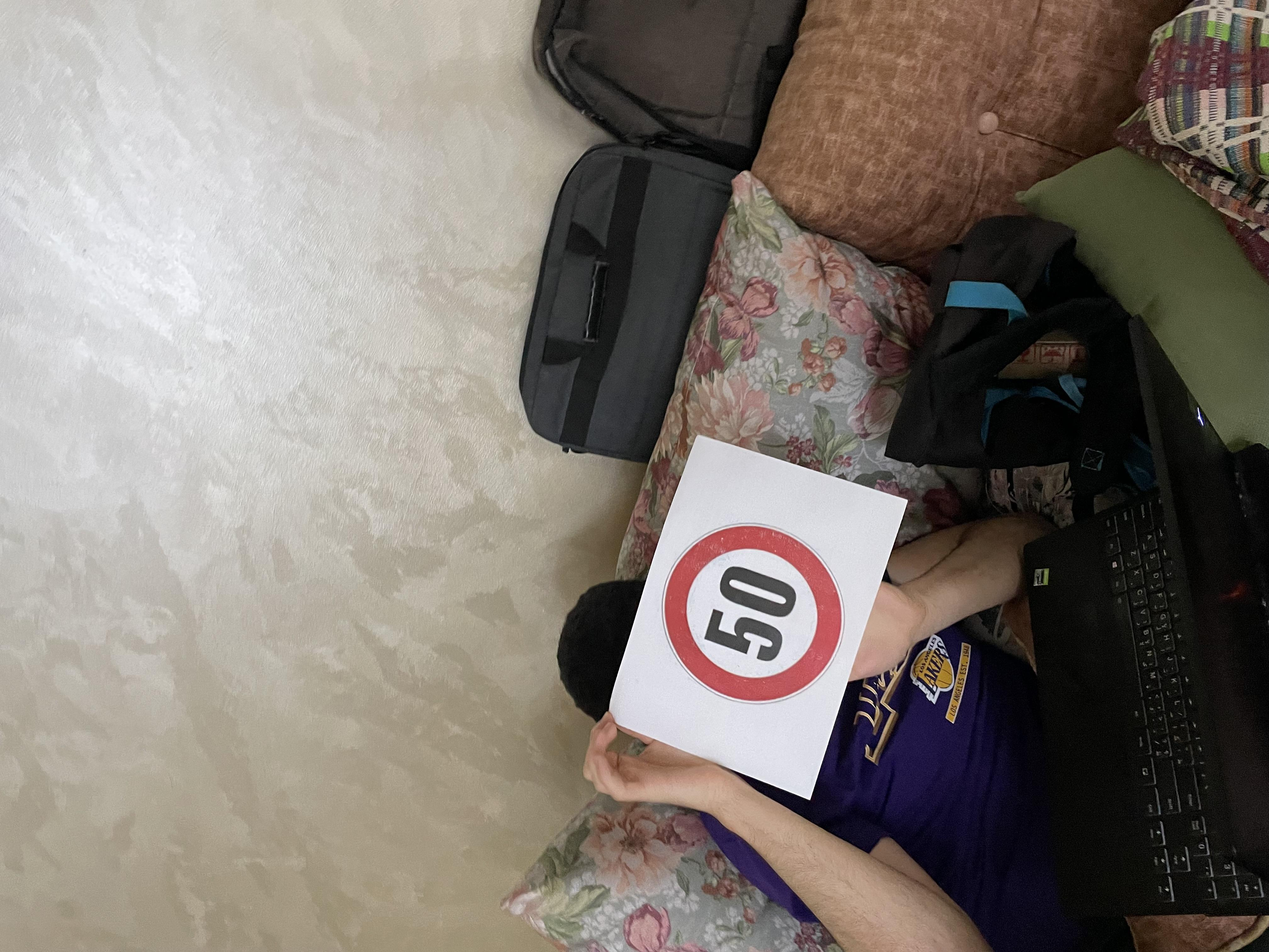50-Speed: (337, 498, 578, 633)
